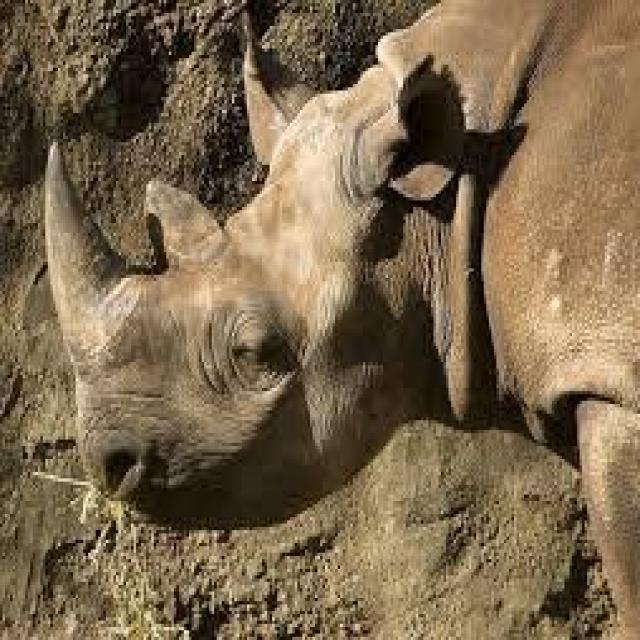Rinoceros: (45, 0, 639, 635)
